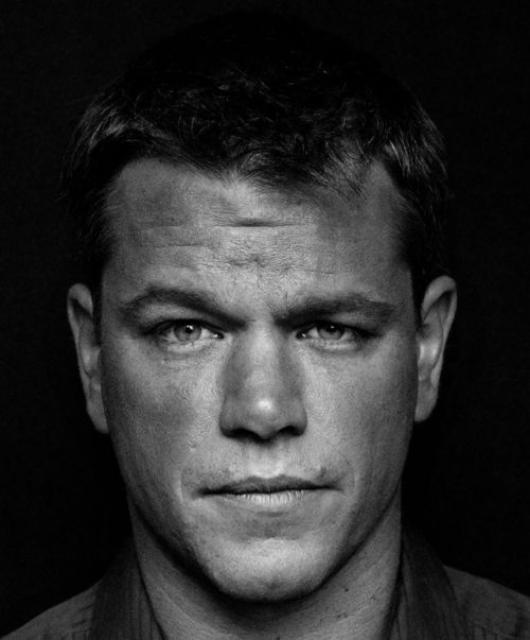forehead: (218, 212, 302, 236)
sad_smile: (337, 458, 363, 496), (172, 472, 194, 508)
